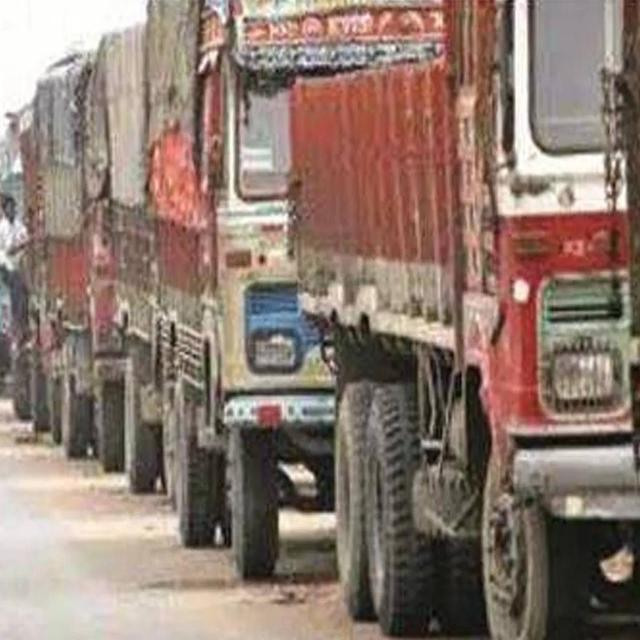truck: (291, 0, 640, 637), (146, 0, 442, 576)
